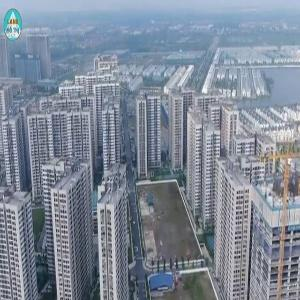drone: (114, 203, 151, 240)
